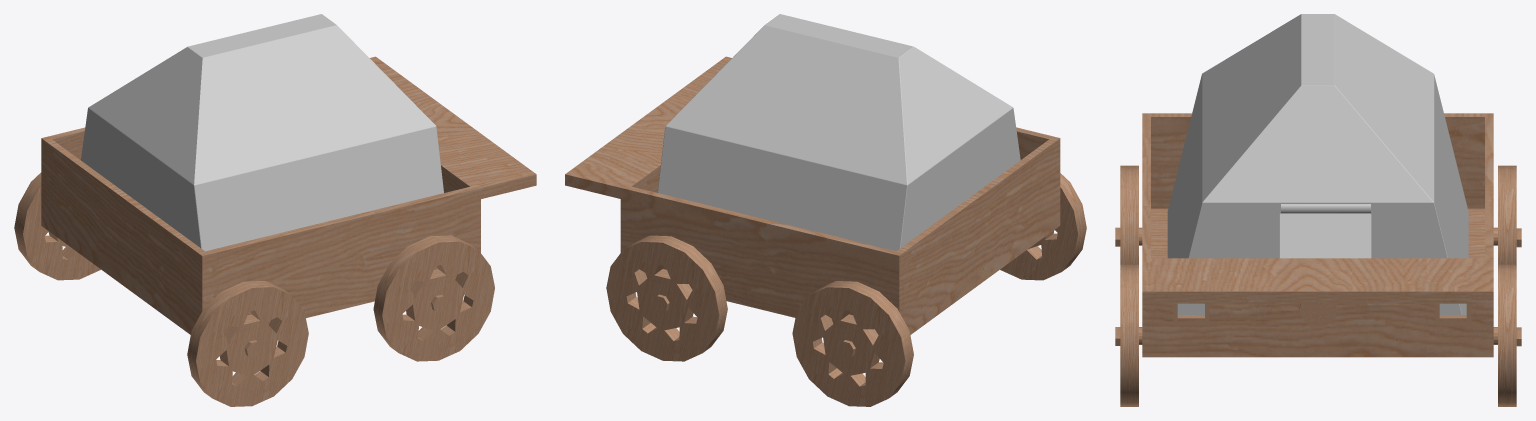
File: SM_Yurt.fbx
3 views of the same model, side by side, from view 1: azimuth 30°, elevation 25°; view 2: azimuth 150°, elevation 25°; view 3: azimuth 270°, elevation 25° (orthographic). The views are drawn at different scales.
Visible parts, largest first — view 1: Plane, Cube, Cylinder.007; view 2: Plane, Cube, Cylinder.007; view 3: Plane, Cube, Cylinder.007, Cylinder.
Boxes of the visible parts, x1,y1,x2,y2 form: Plane: (81, 14, 443, 251); Cube: (41, 56, 536, 334); Cylinder.007: (14, 172, 494, 406); Plane: (657, 14, 1020, 251); Cube: (565, 56, 1060, 334); Cylinder.007: (606, 173, 1086, 406); Plane: (1167, 14, 1468, 314); Cube: (1142, 113, 1493, 357); Cylinder.007: (1115, 165, 1521, 406); Cylinder: (1281, 204, 1370, 213).
Size of the model in its own units: 252 by 192 by 231.
